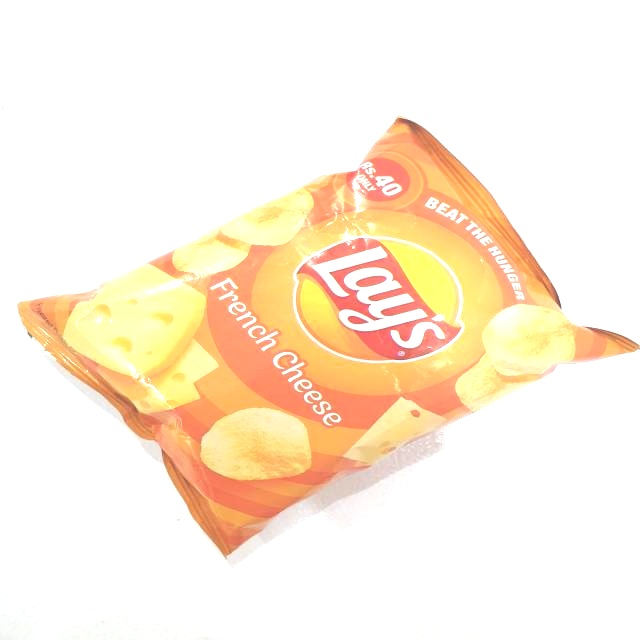lays-small: (47, 139, 597, 538)
